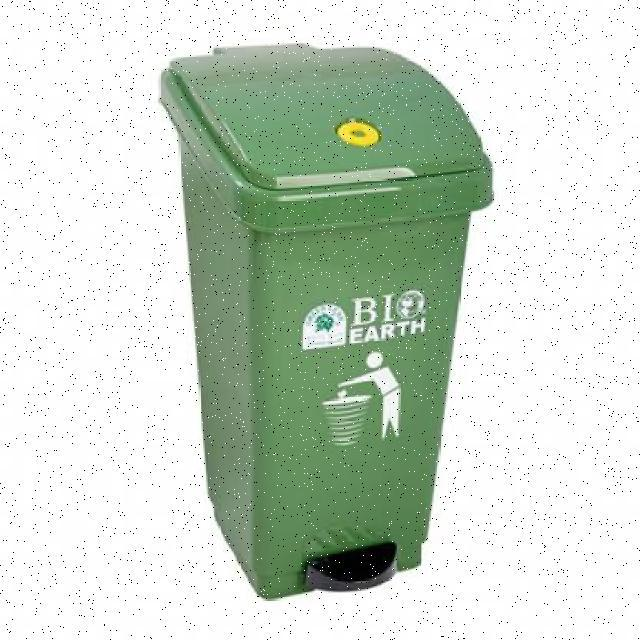garbage container: (153, 31, 512, 619)
